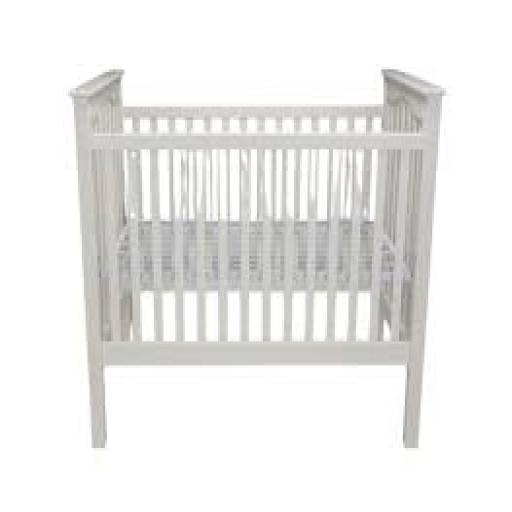crib: (73, 70, 441, 445)
